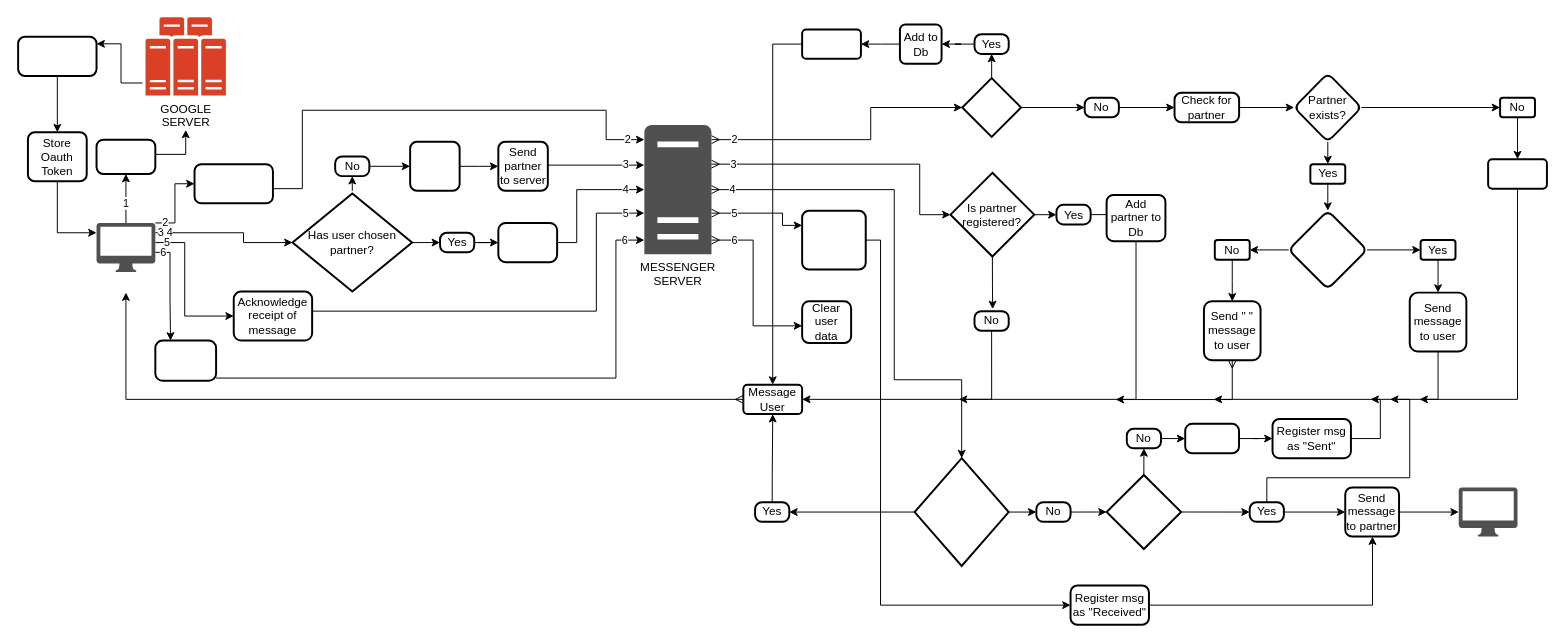
Image size: 1564x642. Some labels were removed from this diagram. Each missing label, with the centre of its shape:
Connect to server: the point at 233,183
Does partner have unread message?: the point at 961,511
Google Log In: the point at 125,156
Is partner online?: the point at 1143,511
New messages?: the point at 1327,249
New User?: the point at 991,107
Notify User: the point at 1517,173
Oauth Authentication: the point at 57,55
Replace saved message with " ": the point at 833,239
Save Message: the point at 1212,438
Send Message: the point at 527,242
User A: the point at 125,246
User B: the point at 1487,511
User Choose Partner: the point at 434,165
User uninstalls app: the point at 185,360
Welcome User: the point at 831,43
